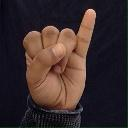hand: (22, 8, 96, 111)
